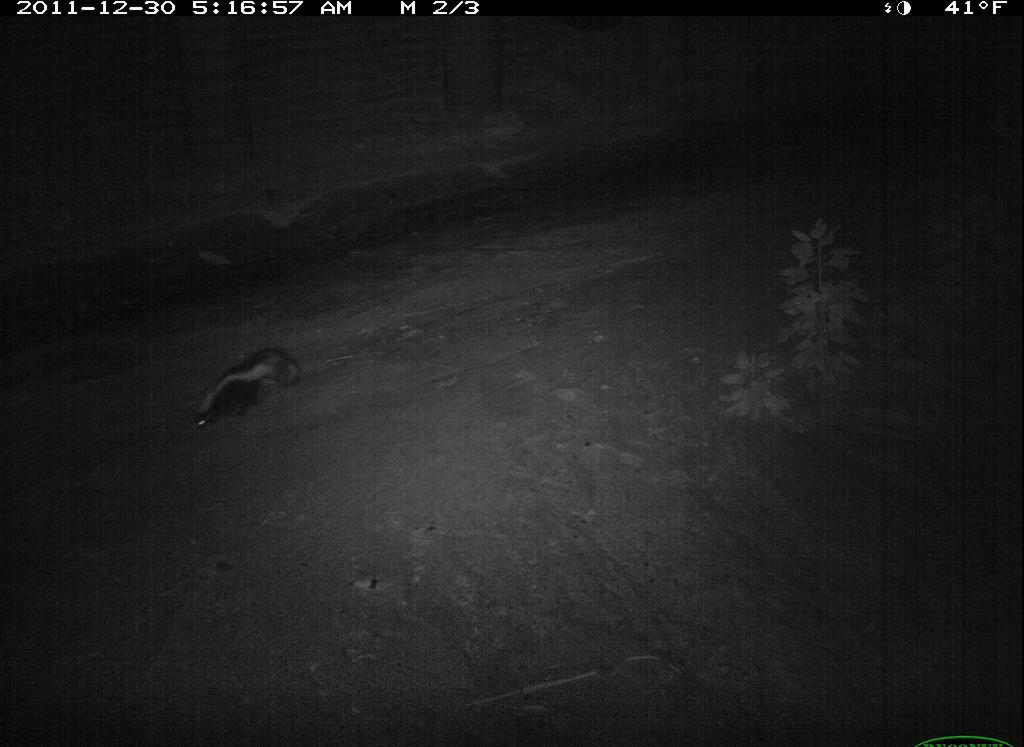skunk: (173, 338, 314, 443)
